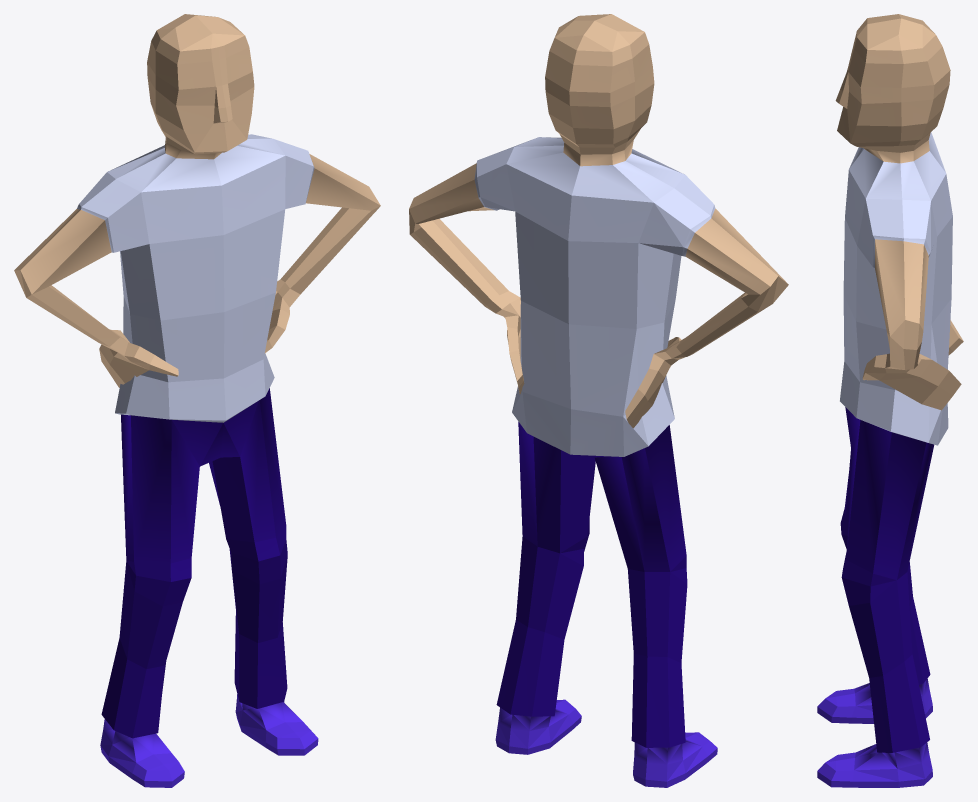
Rendered from man.glb.
3 renders of one model, left to right at view 1: azimuth 30°, elevation 25°; view 2: azimuth 150°, elevation 25°; view 3: azimuth 270°, elevation 25°, orthographic.
Parts seen in each view (by area): view 1: shirt, pants, body, shoes; view 2: shirt, pants, body, shoes; view 3: body, pants, shirt, shoes.
Part boxes in pixels (x1,y1,x2,y2): shirt: (77, 134, 314, 422); pants: (101, 388, 287, 738); body: (14, 14, 380, 387); shoes: (100, 694, 318, 787); shirt: (474, 137, 715, 456); pants: (496, 421, 687, 747); body: (409, 14, 788, 428); shoes: (495, 699, 717, 787); body: (835, 14, 963, 410); pants: (840, 407, 934, 752); shirt: (840, 132, 952, 445); shoes: (817, 678, 932, 787).
Bounding box in the file's own units: 0.755 × 1.46 × 0.2674.
